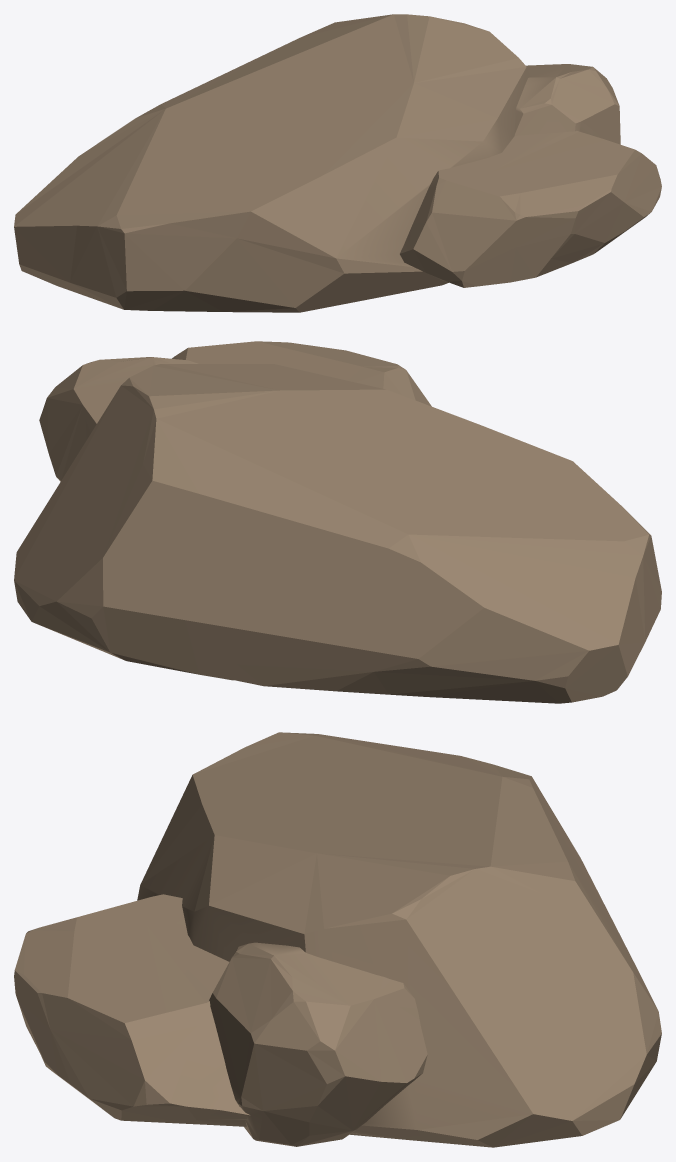
The model's file is SM_Env_Rock_Pile_04.glb.
3 views of the same model, one above another, from view 1: azimuth 30°, elevation 25°; view 2: azimuth 150°, elevation 25°; view 3: azimuth 270°, elevation 25° (orthographic). The views are drawn at different scales.
Visible parts, largest first — view 1: SM_Env_Rock_Pile_04; view 2: SM_Env_Rock_Pile_04; view 3: SM_Env_Rock_Pile_04.
Part boxes in pixels (x1,y1,x2,y2): SM_Env_Rock_Pile_04: [14, 14, 661, 312]; SM_Env_Rock_Pile_04: [14, 341, 661, 703]; SM_Env_Rock_Pile_04: [14, 732, 661, 1147].
Size of the model in its own units: 6.15 by 1.8 by 4.63.
1 material, 1 textured.
